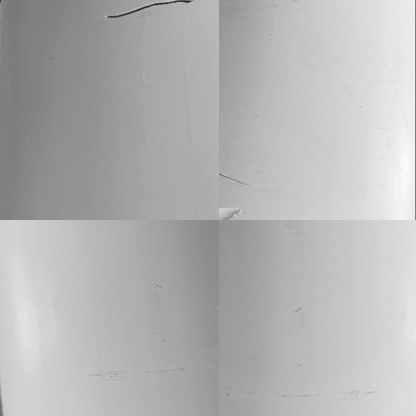fengxi: (104, 7, 207, 22)
sunshang: (216, 200, 249, 222)
